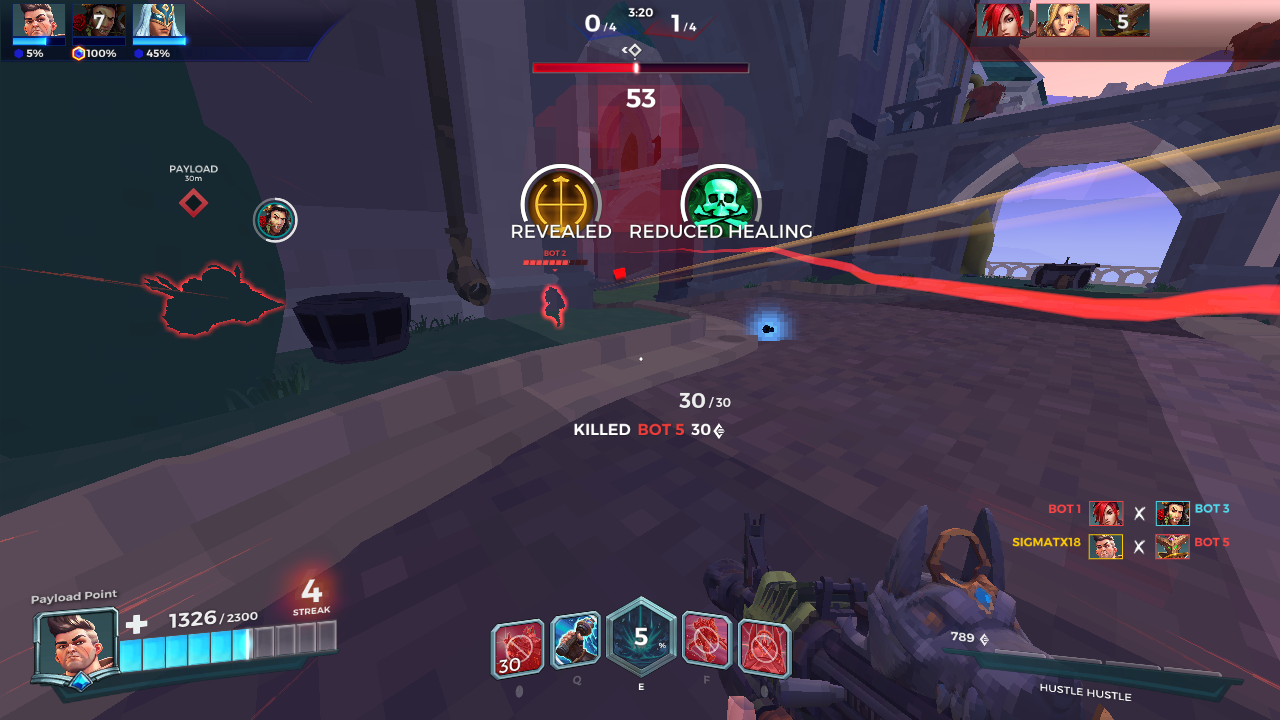model: (533, 275, 569, 329)
